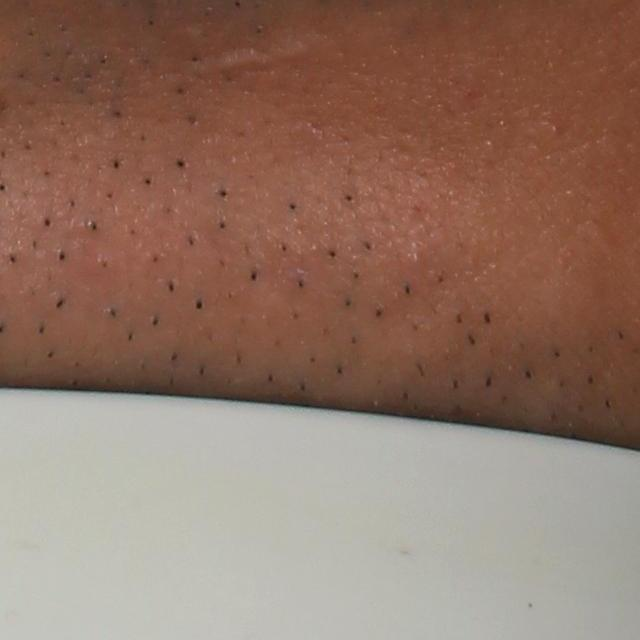hypertrophic_scar: (201, 36, 314, 83)
